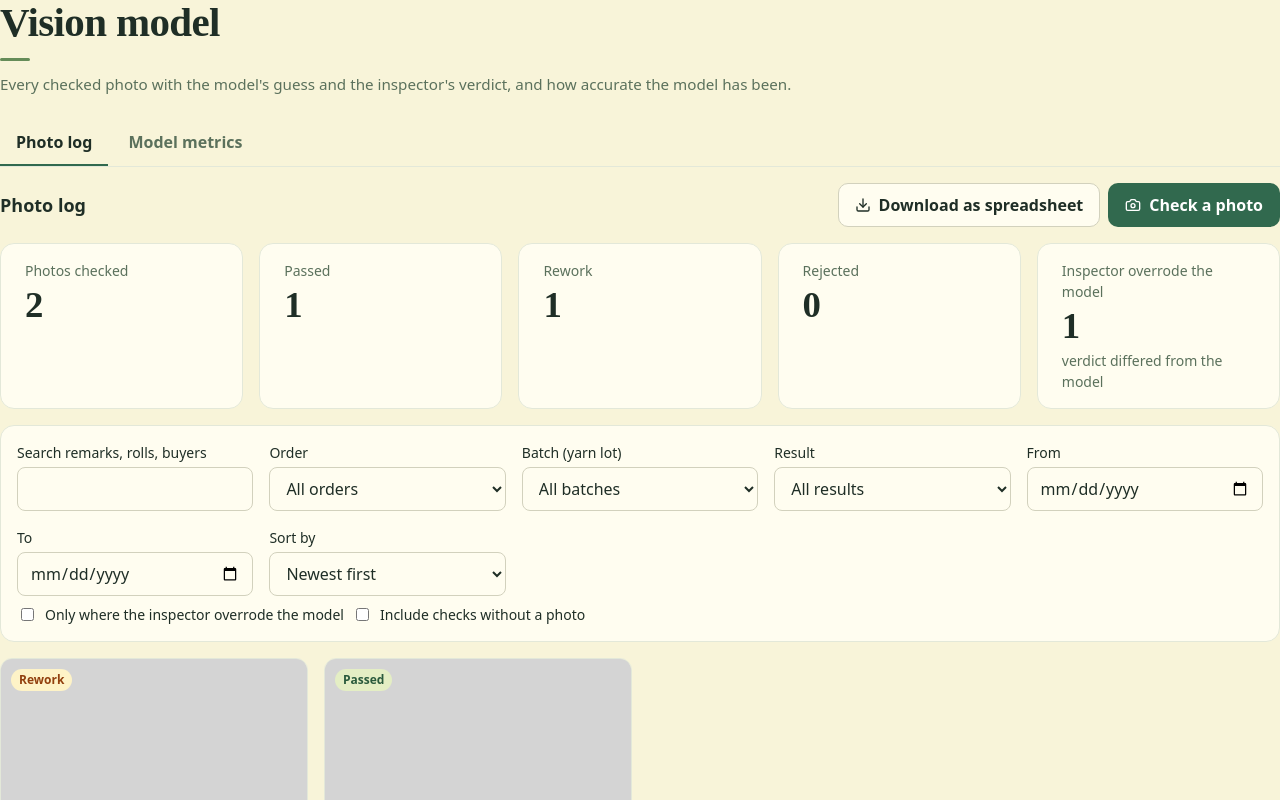
Test: Vision model photo log › lets the owner try the model on a photo when no roll is waiting, without saving anything
What coordinates should you click on to do the following:
click the button "Check a photo"
I would click on:
 (1194, 205)
Its box is [1108,183,1279,227].
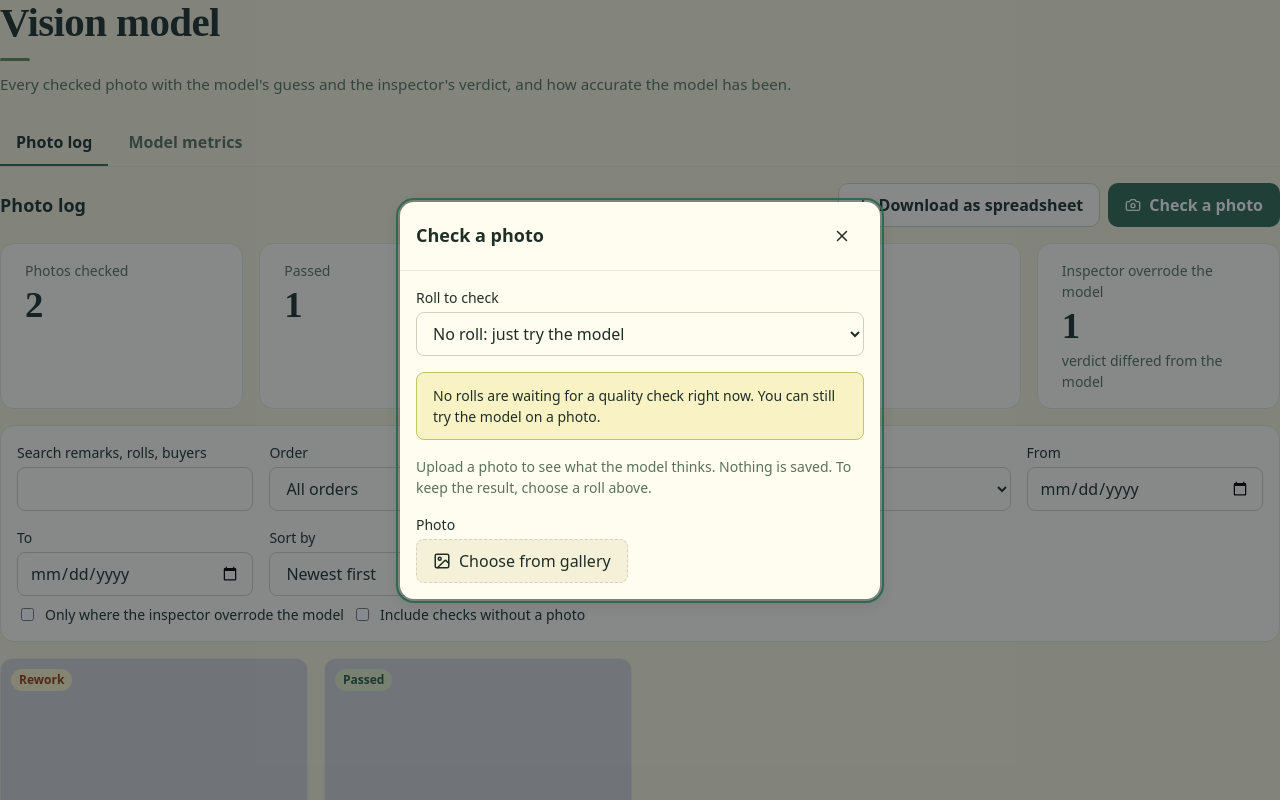
Expected: the text "No rolls are waiting" is shown, [433,386,835,426]
Expected: the text "Nothing is saved" is shown, [416,456,851,496]
